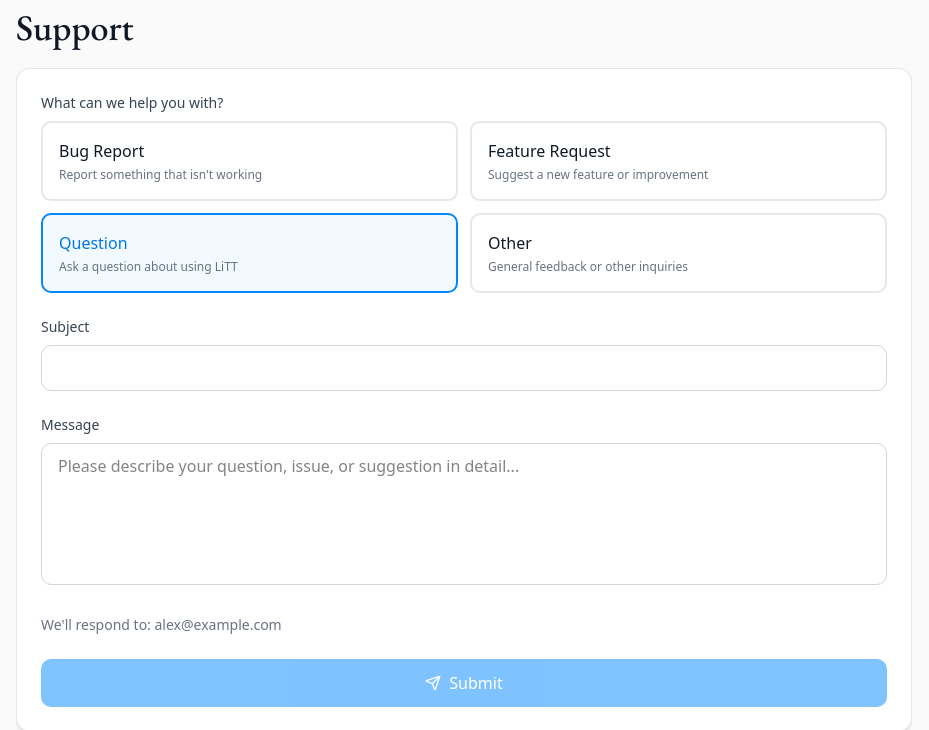
Scenario: SupportPage › blames the connection when the request never lands
Type "Cannot upload" into the field labelled "Subject". click: (464, 368)
box: 41,345 -> 887,391
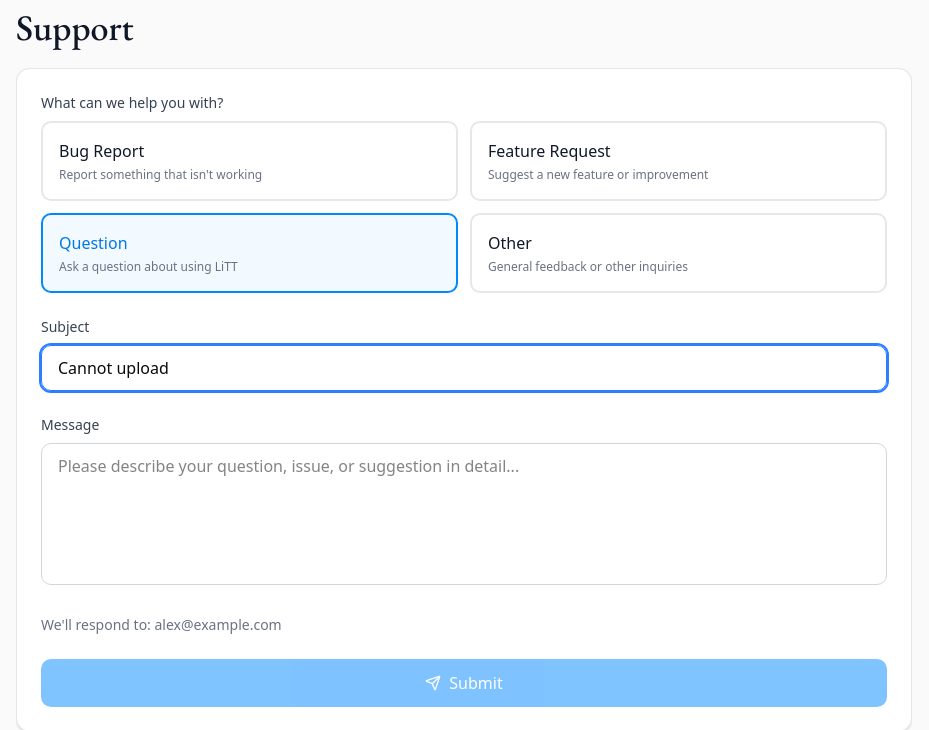
Type "It fails every time." into the text box labelled "Message". click: (464, 514)
box: 41,443 -> 887,585
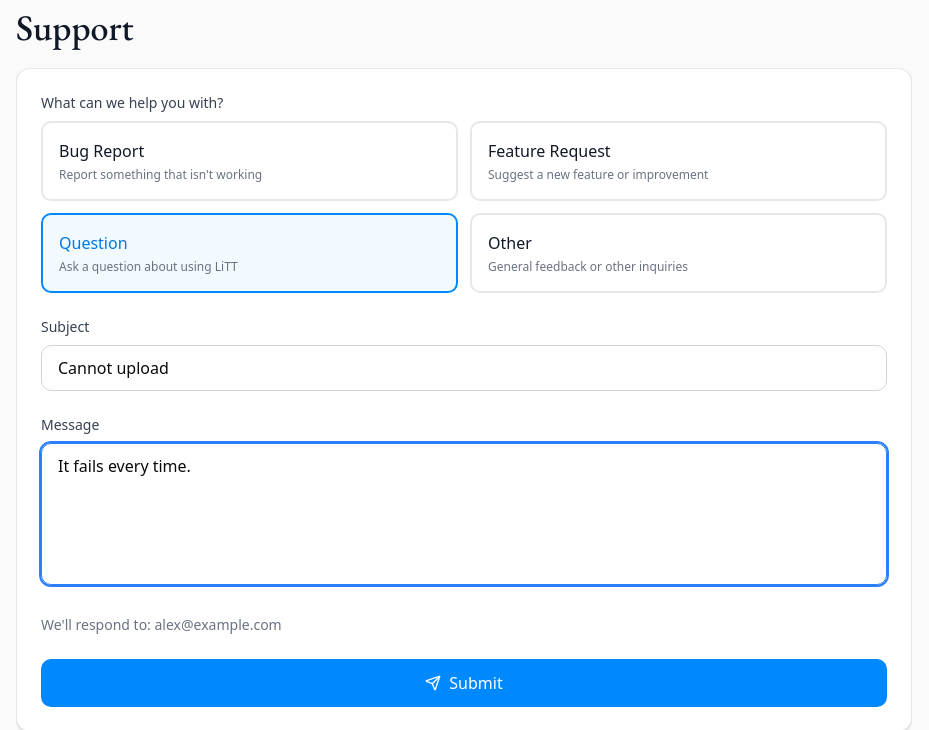
Click the button "Submit". click: (464, 683)
box: 41,659 -> 887,707
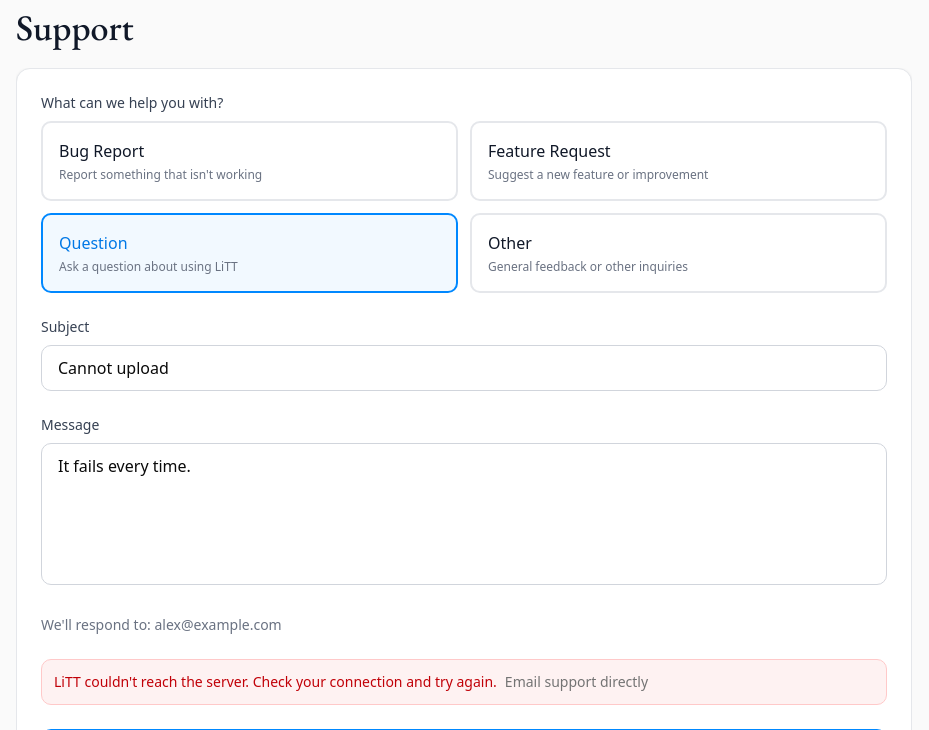
Check: the message shows "LiTT couldn't reach the server. Check your connection and try again.", box 54,672 -> 497,691
